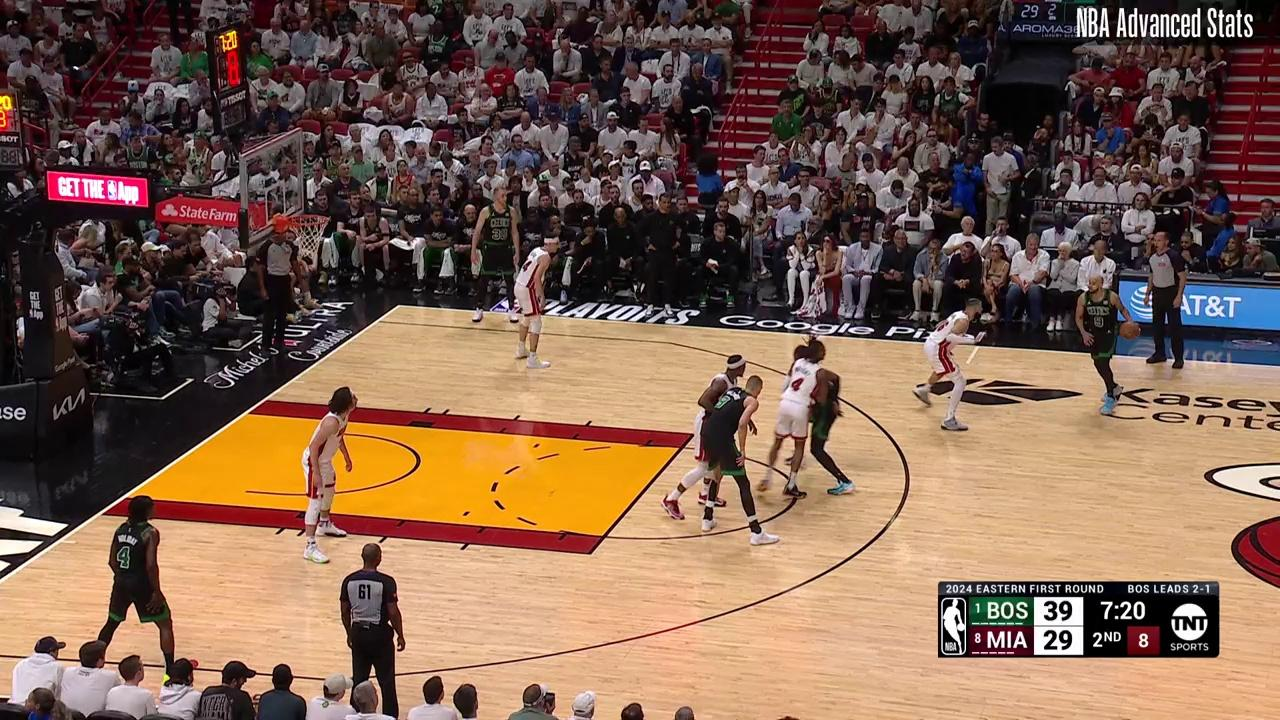3_dx: (374, 319, 381, 326)
b_dx: (396, 302, 404, 310)
free_adx: (688, 431, 696, 438)
free_asx: (585, 550, 594, 558)
free_bdx: (261, 397, 268, 404)
free_bsx: (94, 511, 103, 519)
mid_dx: (964, 360, 971, 368)
referee: (340, 542, 406, 720), (1145, 230, 1194, 373), (257, 227, 299, 361)
team: (95, 493, 200, 685), (700, 375, 781, 547), (790, 346, 857, 497), (1073, 271, 1137, 417), (468, 187, 525, 325)
team1: (661, 353, 745, 519), (758, 337, 826, 499), (301, 385, 360, 564), (913, 297, 983, 432), (515, 231, 559, 373)
timer: (1088, 592, 1156, 625)
